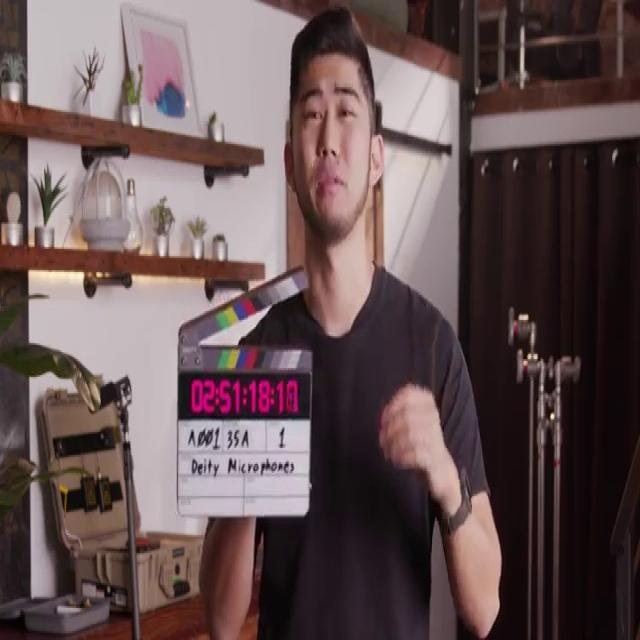Clapperboard: (176, 268, 314, 519)
